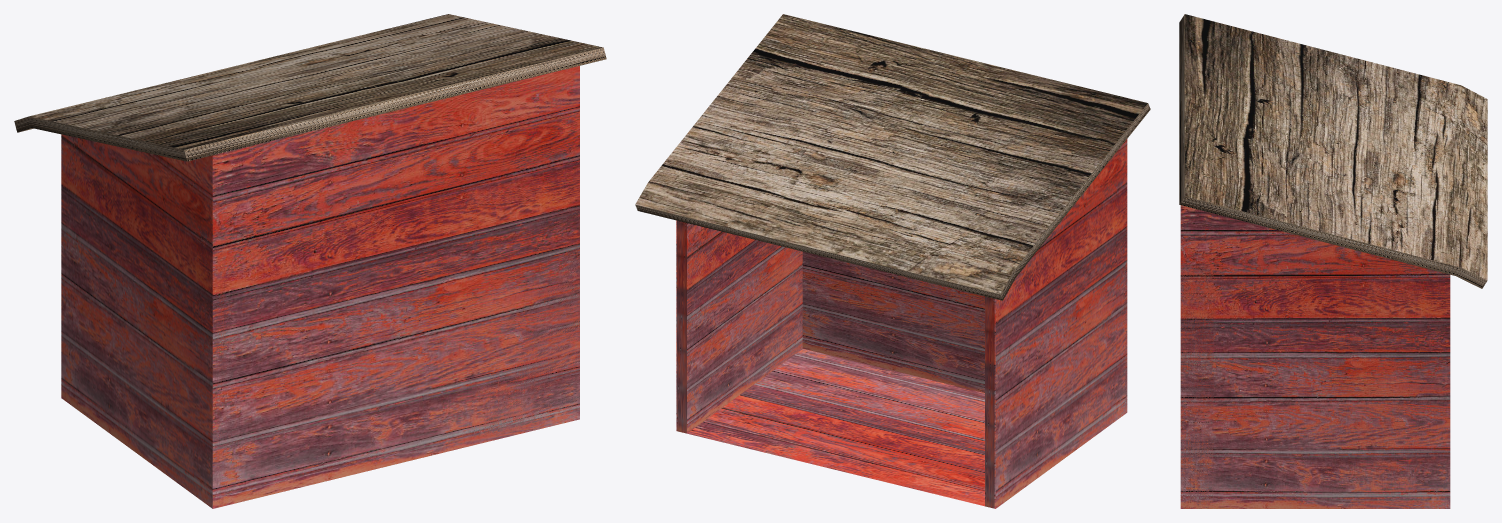
The model's file is minibarn.FBX.
The picture shows the model from 3 angles, left to right: view 1: azimuth 30°, elevation 25°; view 2: azimuth 150°, elevation 25°; view 3: azimuth 270°, elevation 25°; orthographic projection. The views are drawn at different scales.
Parts seen in each view (by area): view 1: Box007, Box002, Box009; view 2: Box002, Box007, Box010, Box009, Box008; view 3: Box007, Box002, Box009.
Part boxes in pixels (x1,y1,x2,y2): Box007: (61,66,579,508); Box002: (14,14,606,161); Box009: (194,151,579,482); Box002: (635,14,1150,300); Box007: (676,139,1127,508); Box010: (677,220,802,433); Box009: (802,175,1127,414); Box008: (985,296,995,508); Box007: (1180,205,1450,508); Box002: (1179,14,1487,288); Box009: (1180,264,1213,508).
Size of the model in its own units: 80 by 66.28 by 57.13.
Materials: 2 (2 with a texture image).
